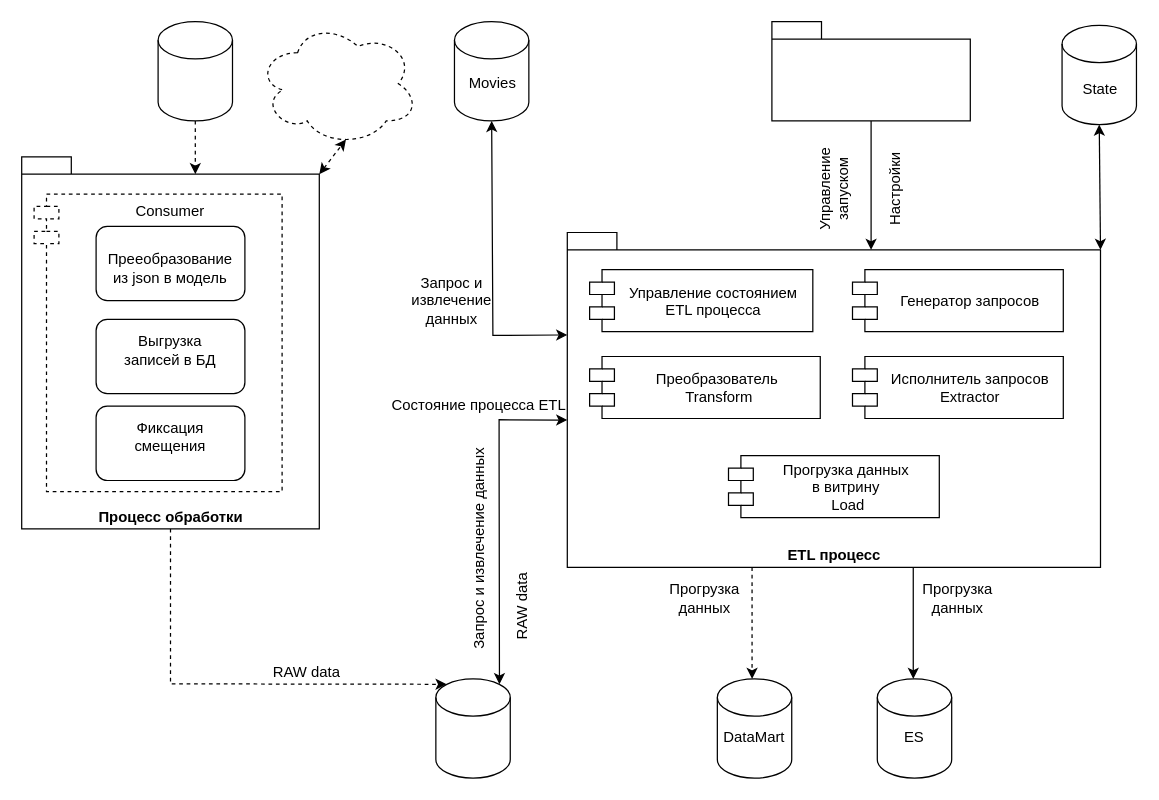
This 1159x800 diagram has some shape labels left out. Each missing label, with the centre of its shape:
"ETL-система(Airflow)" belongs at point 870,70.
"Kafka" belongs at point 194,70.
"ODS" belongs at point 472,728.
"Процесс буферизации сообщений из Kafka" belongs at point 337,83.
